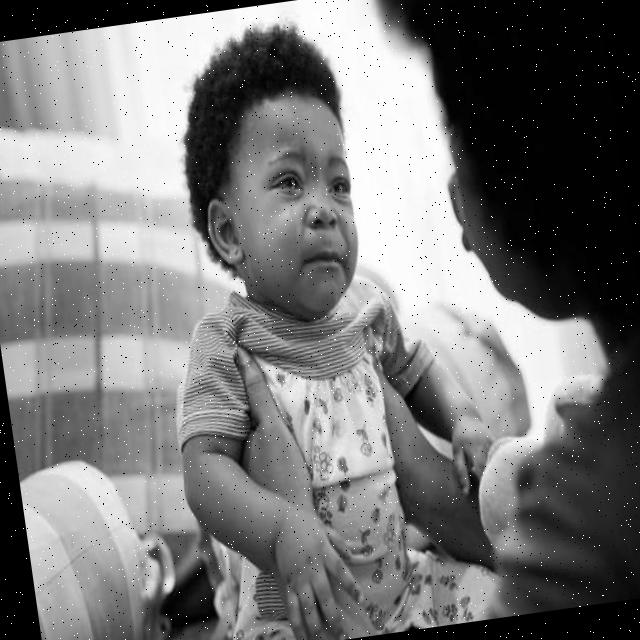Sadness: (214, 84, 372, 330)
